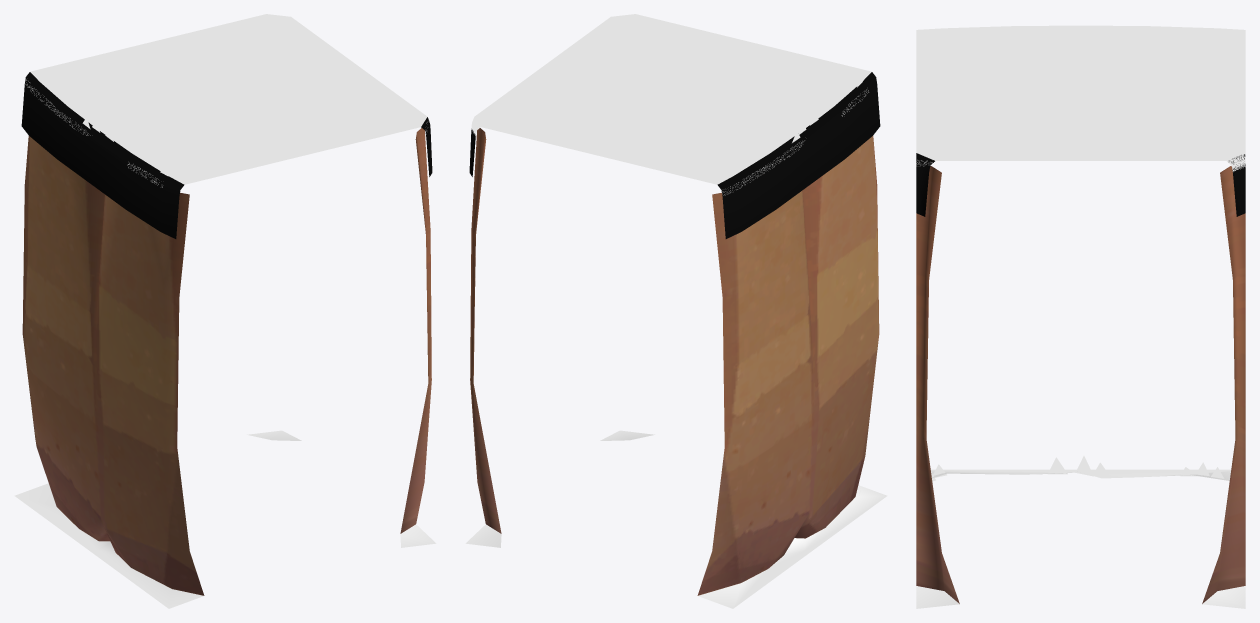
The picture shows the model from 3 angles, left to right: view 1: azimuth 30°, elevation 25°; view 2: azimuth 150°, elevation 25°; view 3: azimuth 270°, elevation 25°; orthographic projection. The views are drawn at different scales.
Visible parts, largest first — view 1: CliffC__mCliff, GrassT__mGrass, GrassOP_1__mGrassCliffXlu, GrassB_1__mGrass; view 2: CliffC__mCliff, GrassT__mGrass, GrassOP_1__mGrassCliffXlu, GrassB_1__mGrass; view 3: GrassT__mGrass, CliffC__mCliff, GrassB_1__mGrass, GrassOP_1__mGrassCliffXlu, PGrassBA__mProcGrass.
Part boxes in pixels (x1,y1,x2,y2): CliffC__mCliff: (22,128,431,595); GrassT__mGrass: (25,14,429,187); GrassOP_1__mGrassCliffXlu: (21,72,432,238); GrassB_1__mGrass: (14,430,436,608); CliffC__mCliff: (470,128,879,595); GrassT__mGrass: (471,14,871,195); GrassOP_1__mGrassCliffXlu: (469,72,880,238); GrassB_1__mGrass: (465,430,887,608); GrassT__mGrass: (916,25,1245,171); CliffC__mCliff: (916,166,1245,603); GrassB_1__mGrass: (916,469,1245,608); GrassOP_1__mGrassCliffXlu: (916,153,1245,216); PGrassBA__mProcGrass: (931,456,1224,481).
Size of the model in its own units: 10 by 15.39 by 10.
4 materials, 1 textured.
